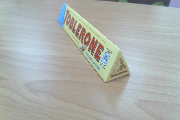Chocolate: (47, 1, 141, 90)
